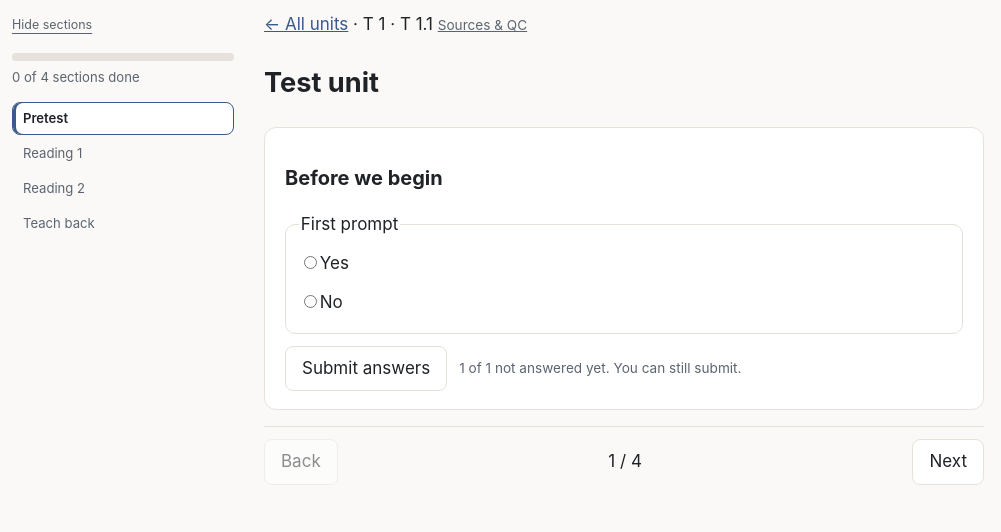
UnitPlayer › lets the learner jump straight to any section without stepping through
The image size is (1001, 532).
Click the button "Teach back".
click(123, 224)  # box left=12, top=207, right=234, bottom=240
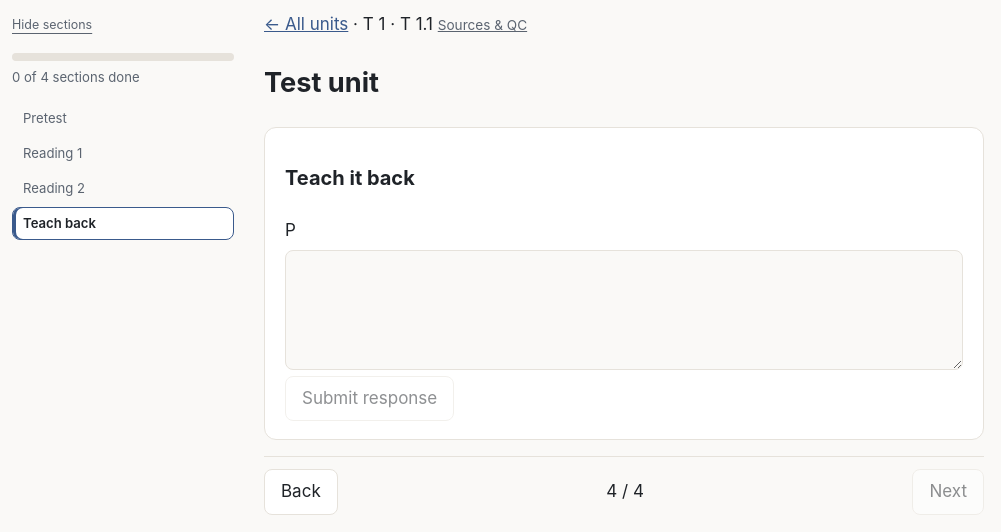
Expected: the heading "Teach it back" is shown, left=285, top=166, right=415, bottom=190
Expected: the heading "Before we begin" is gone
# and back again, in one move
Click the button "Reading 1".
click(123, 154)  # box left=12, top=137, right=234, bottom=170
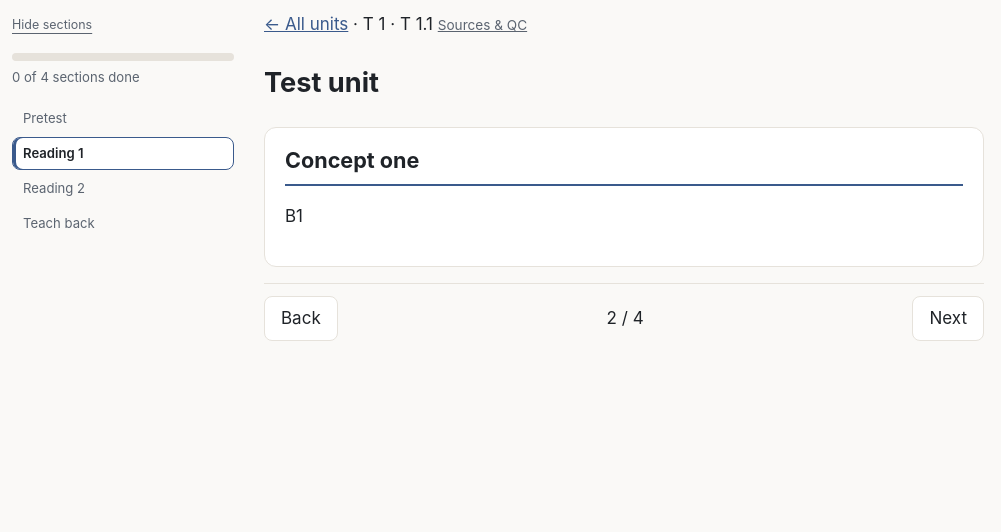
Expected: the heading "Concept one" is shown, left=285, top=146, right=963, bottom=186
